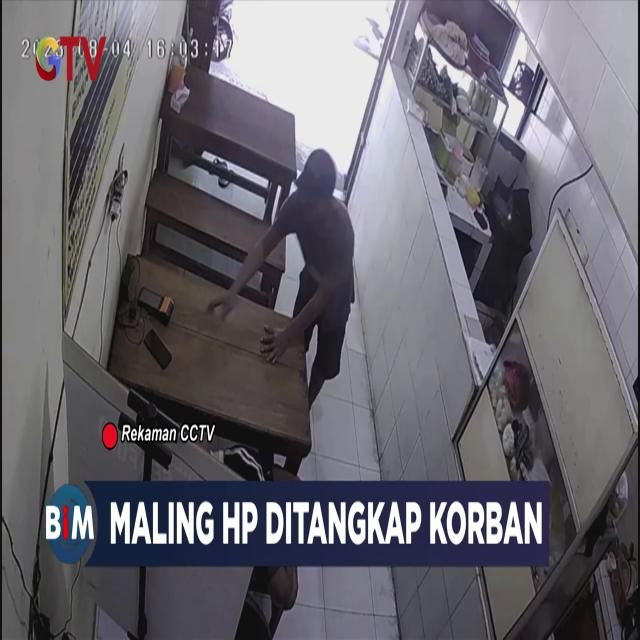pencurian: (209, 150, 356, 415)
